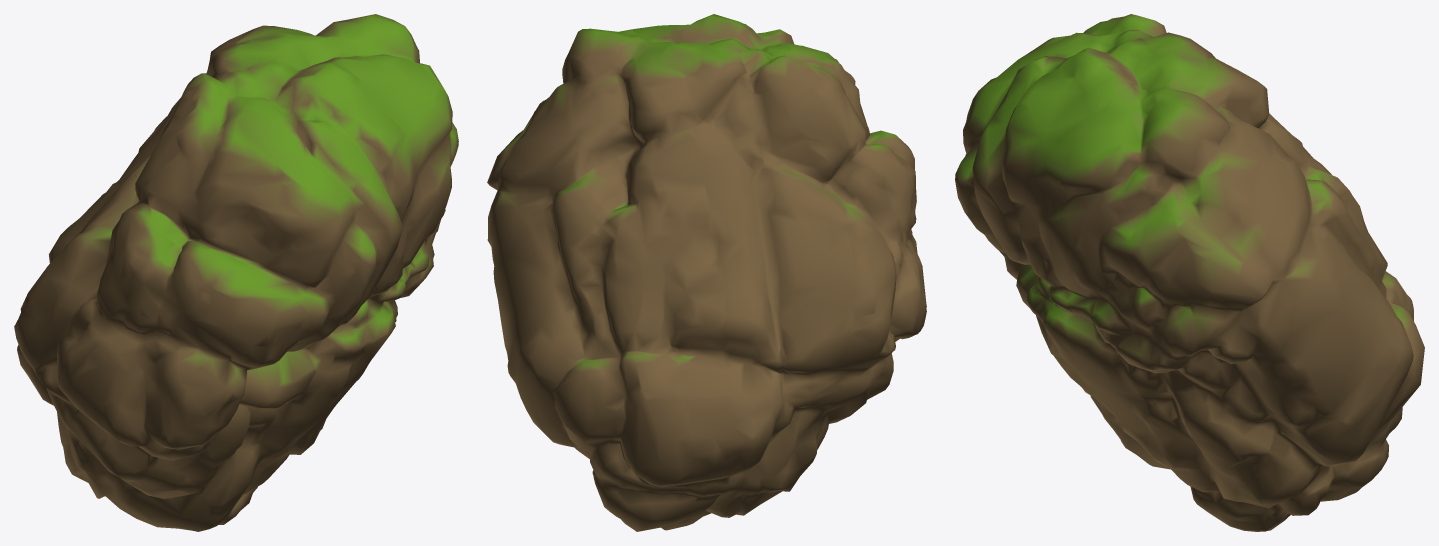
Rendered from cell_x-3_z-2_render.gltf.
3 views of the same model, side by side, from view 1: azimuth 30°, elevation 25°; view 2: azimuth 150°, elevation 25°; view 3: azimuth 270°, elevation 25° (orthographic). The views are drawn at different scales.
Visible parts, largest first — view 1: SM_ENV_cliff_castle_01_LOD0.041; view 2: SM_ENV_cliff_castle_01_LOD0.041; view 3: SM_ENV_cliff_castle_01_LOD0.041.
Boxes of the visible parts, left/top/right/bottom form: SM_ENV_cliff_castle_01_LOD0.041: left=14, top=14, right=458, bottom=531; SM_ENV_cliff_castle_01_LOD0.041: left=487, top=14, right=926, bottom=531; SM_ENV_cliff_castle_01_LOD0.041: left=955, top=14, right=1424, bottom=531.
Size of the model in its own units: 36.65 by 42.02 by 36.53.
